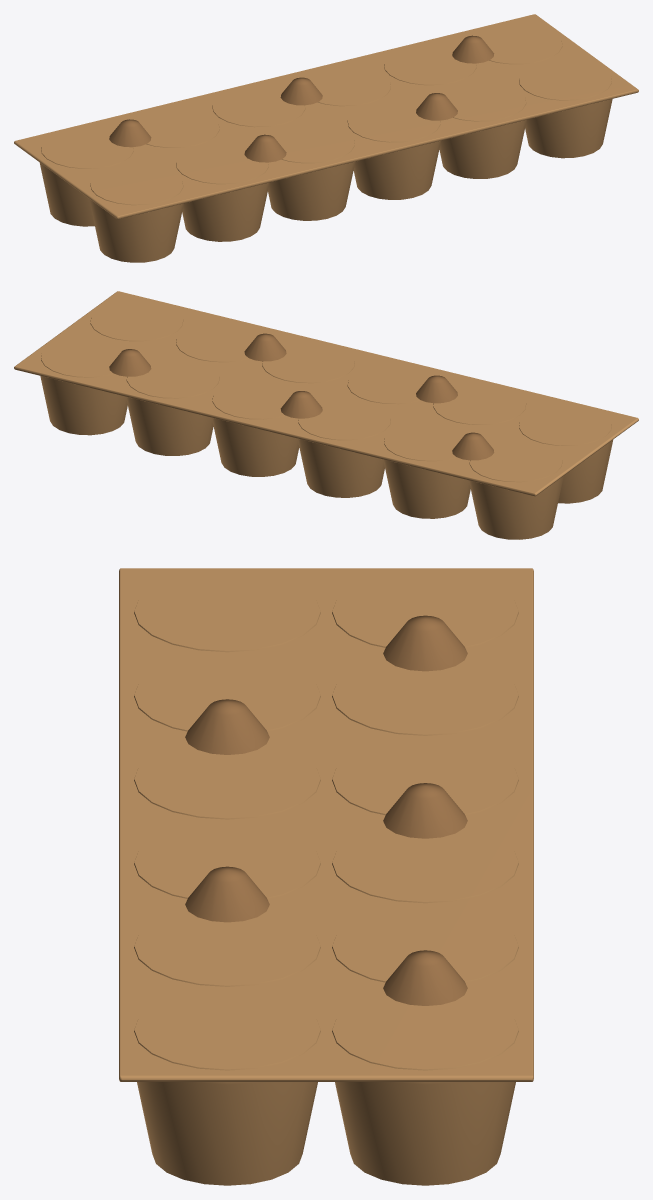
Rendered from egg_carton.glb.
3 renders of one model, top to bottom at view 1: azimuth 30°, elevation 25°; view 2: azimuth 150°, elevation 25°; view 3: azimuth 270°, elevation 25°, orthographic. The views are drawn at different scales.
Parts seen in each view (by area): view 1: egg_carton.001; view 2: egg_carton.001; view 3: egg_carton.001.
Part boxes in pixels (x1,y1,x2,y2): egg_carton.001: (14, 14, 638, 262); egg_carton.001: (14, 291, 638, 539); egg_carton.001: (119, 568, 533, 1185).
Bounding box in the file's own units: 25.6 × 3.7 × 8.8.
